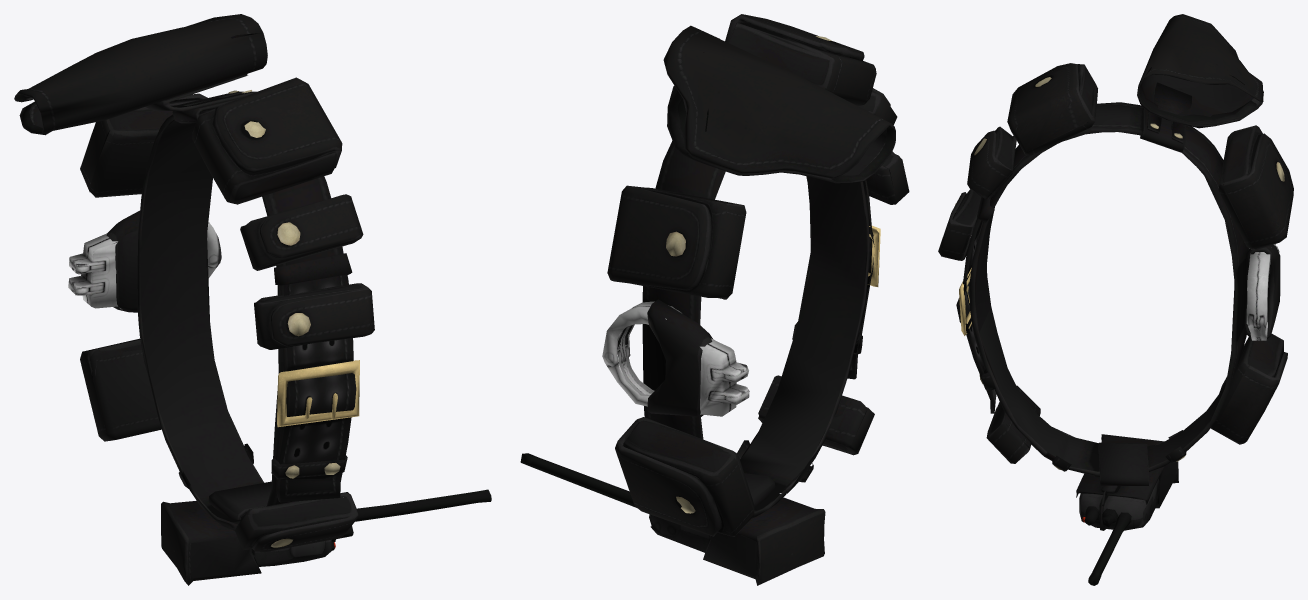
The model's file is SheriffEliBelt.fbx.
3 views of the same model, side by side, from view 1: azimuth 30°, elevation 25°; view 2: azimuth 150°, elevation 25°; view 3: azimuth 270°, elevation 25° (orthographic). The views are drawn at different scales.
Visible parts, largest first — view 1: BeckyCopBody.001; view 2: BeckyCopBody.001; view 3: BeckyCopBody.001.
Part boxes in pixels (x1,y1,x2,y2): BeckyCopBody.001: (14,14,491,585); BeckyCopBody.001: (520,14,909,585); BeckyCopBody.001: (938,14,1293,585).
Size of the model in its own units: 0.215 by 0.262 by 0.1893.
